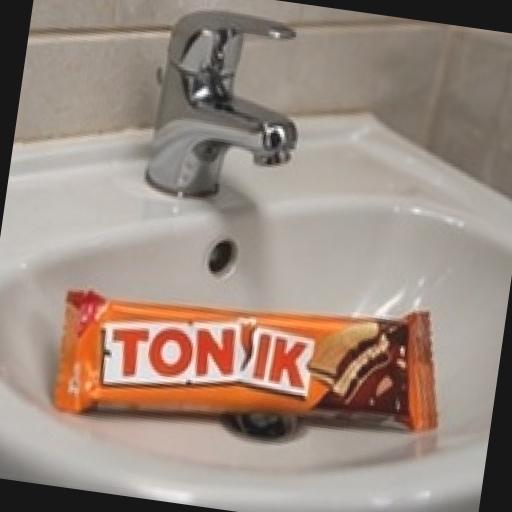tonik: (0, 190, 483, 512)
